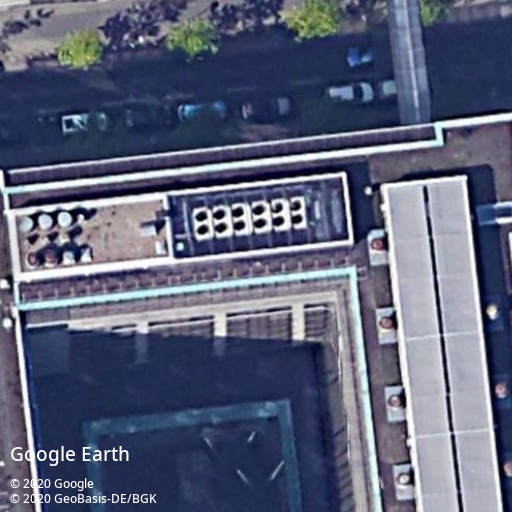Chiller: (250, 198, 273, 234), (269, 197, 291, 232), (211, 204, 234, 237), (230, 202, 253, 235), (193, 206, 213, 242), (289, 195, 308, 228)
